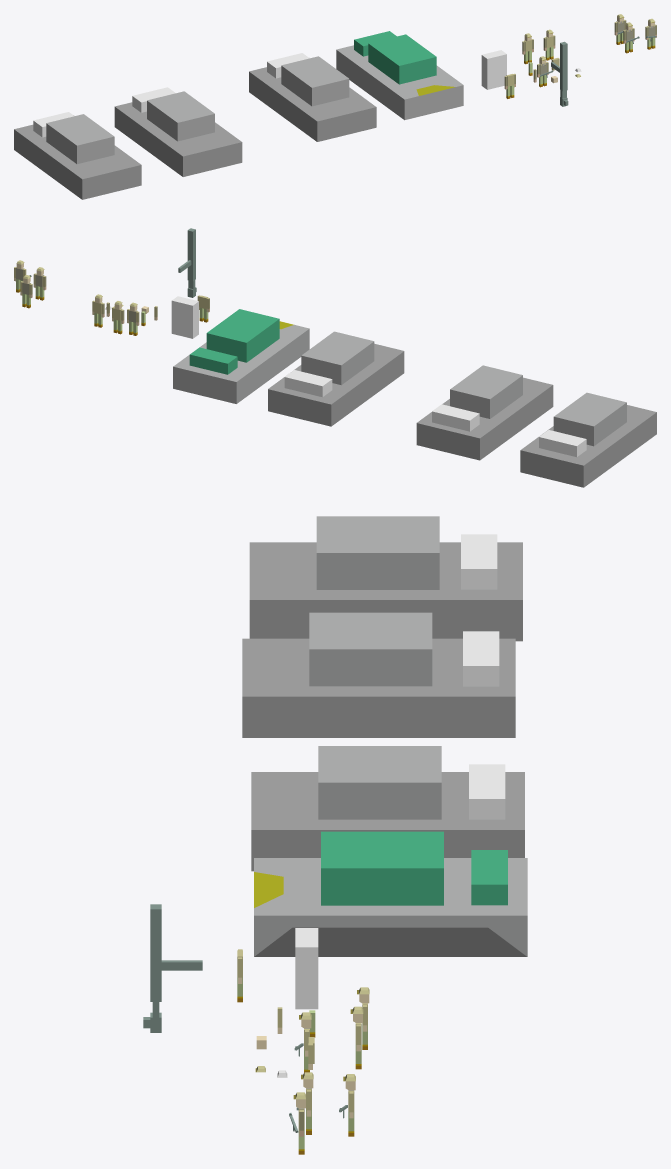
The model's file is units-prod_v2.gltf.
The picture shows the model from 3 angles, top to bottom: view 1: azimuth 30°, elevation 25°; view 2: azimuth 150°, elevation 25°; view 3: azimuth 270°, elevation 25°; orthographic projection. The views are drawn at different scales.
Visible parts, largest first — view 1: group_3, group_1, group_8, group_11, group_2, group_10, group_7, group_4, SketchUp, group_32, group_5, group_6 (+2 smaller); view 2: group_1, group_8, group_3, group_11, group_4, group_10, group_7, group_2, SketchUp, group_9, group_6, group_5 (+2 smaller); view 3: group_3, group_1, group_8, group_11, group_4, group_10, group_7, group_2, ID99, group_9, group_6, group_5 (+3 smaller).
Boxes of the visible parts, x1,y1,x2,y2 form: group_3: (114, 102, 242, 176); group_1: (14, 115, 141, 199); group_8: (249, 67, 376, 141); group_11: (336, 45, 463, 120); group_2: (46, 114, 114, 164); group_10: (368, 34, 436, 84); group_7: (281, 56, 349, 106); group_4: (147, 91, 214, 141); SketchUp: (481, 50, 506, 89); group_32: (560, 41, 567, 106); group_5: (132, 87, 175, 112); group_6: (267, 53, 309, 78); group_1: (520, 405, 656, 487); group_8: (268, 343, 404, 426); group_3: (416, 377, 553, 460); group_11: (173, 325, 309, 403); group_4: (450, 365, 522, 418); group_10: (206, 309, 279, 362); group_7: (301, 331, 374, 385); group_2: (553, 392, 626, 446); SketchUp: (171, 296, 198, 338); group_9: (189, 347, 237, 374); group_6: (284, 370, 332, 397); group_5: (432, 404, 479, 431); group_3: (242, 638, 515, 737); group_1: (249, 542, 522, 641); group_8: (251, 772, 524, 871); group_11: (254, 858, 527, 956); group_4: (309, 612, 432, 686); group_10: (321, 831, 443, 905); group_7: (318, 746, 441, 819); group_2: (316, 516, 439, 589); ID99: (254, 927, 526, 956); group_9: (471, 850, 507, 905); group_6: (469, 764, 505, 819); group_5: (463, 631, 499, 686).
Size of the model in its own units: 2.97 by 0.36 by 0.8424.
